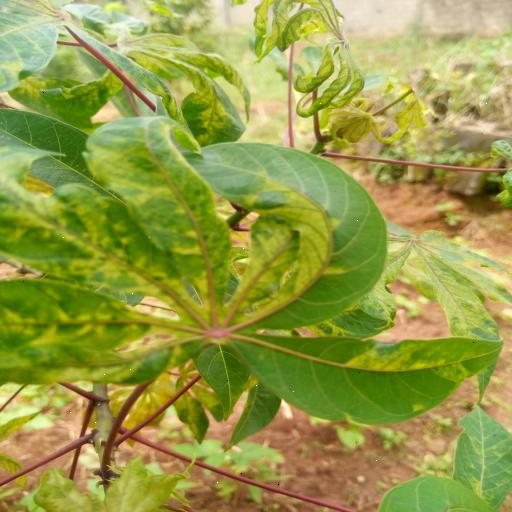Cassava_Mosaic: (0, 104, 493, 426)
